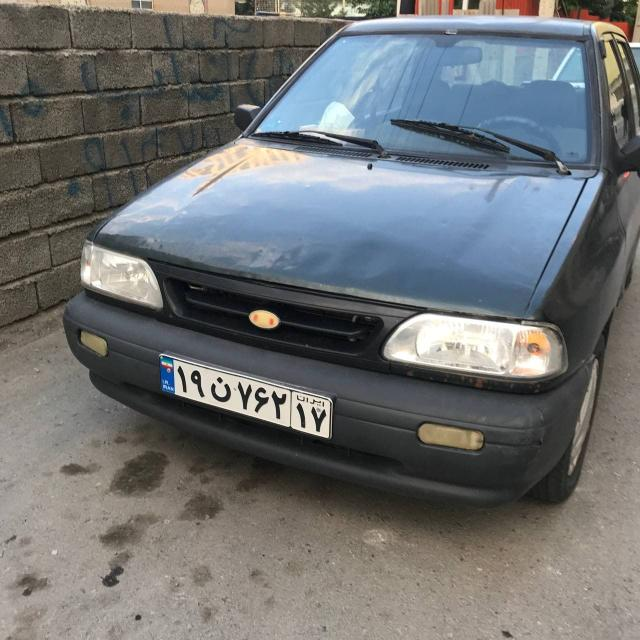Plates: (150, 356, 338, 438)
